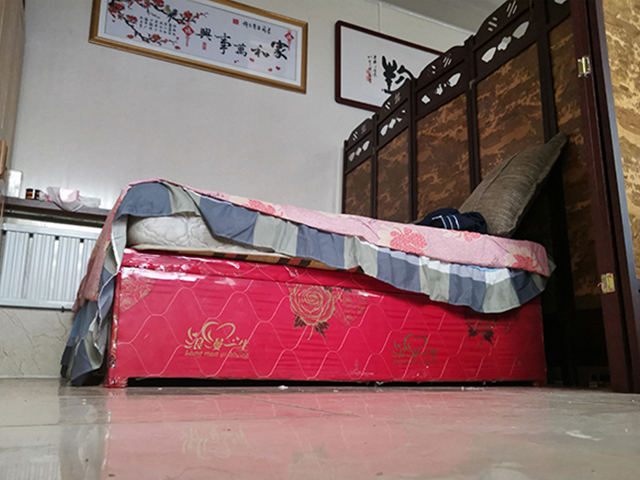bed: (59, 176, 556, 389)
